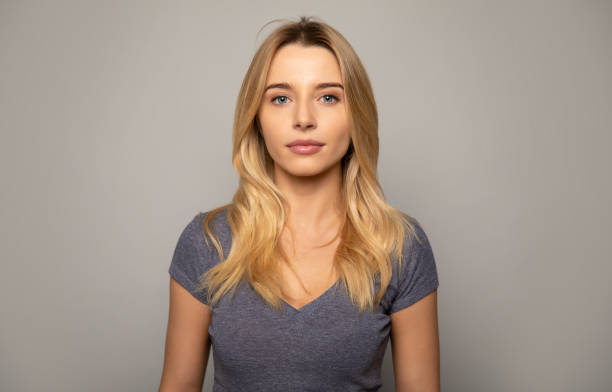woman: (238, 19, 378, 177)
